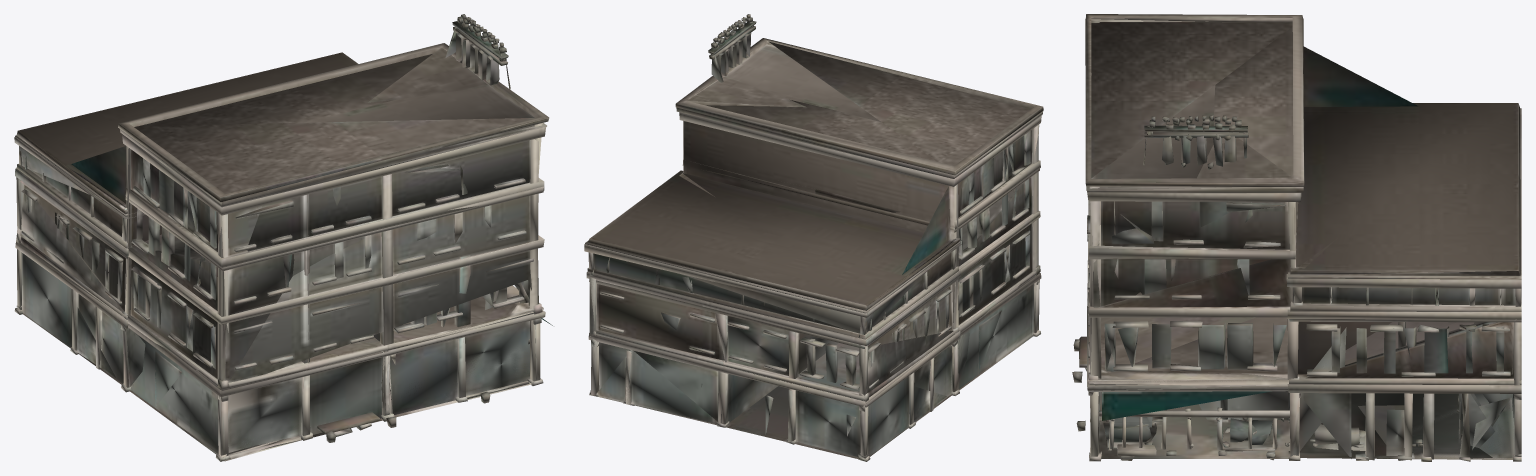
File: bld_hotel.glb
The picture shows the model from 3 angles, left to right: view 1: azimuth 30°, elevation 25°; view 2: azimuth 150°, elevation 25°; view 3: azimuth 270°, elevation 25°; orthographic projection. The views are drawn at different scales.
Bounding box in the file's own units: 0.9215 × 0.8335 × 0.9929.
Materials: 1 (1 with a texture image).
